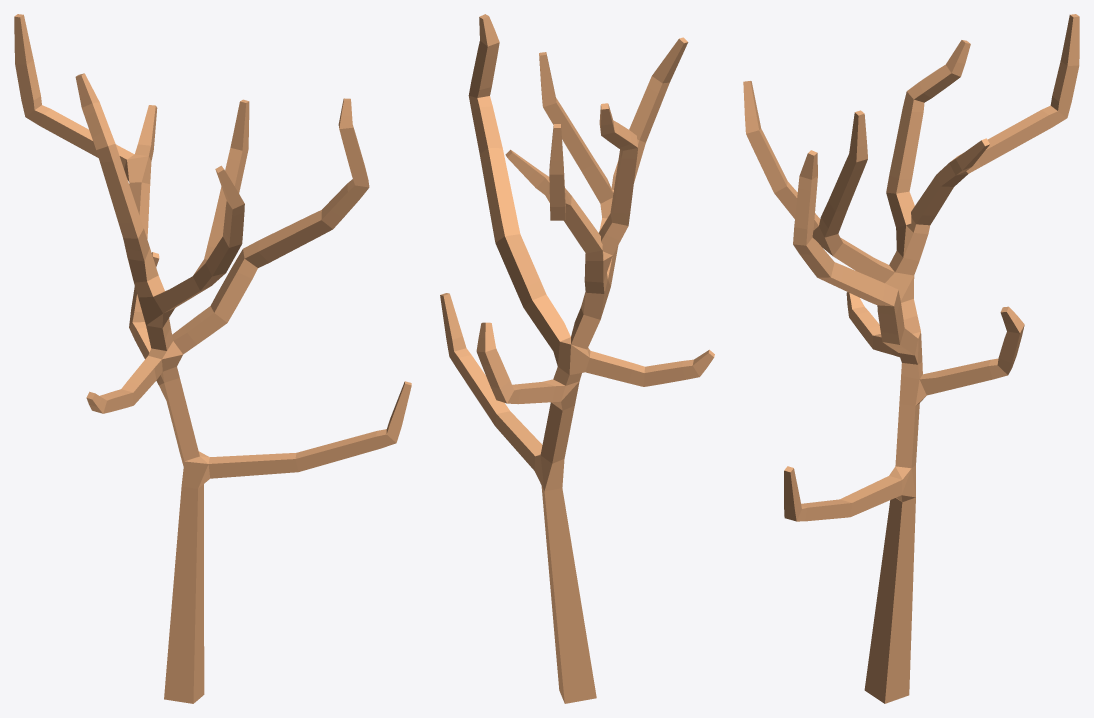
The model's file is tree_1.glb.
3 views of the same model, side by side, from view 1: azimuth 30°, elevation 25°; view 2: azimuth 150°, elevation 25°; view 3: azimuth 270°, elevation 25° (orthographic). The views are drawn at different scales.
Parts seen in each view (by area): view 1: twig_tree_1.001; view 2: twig_tree_1.001; view 3: twig_tree_1.001.
Part boxes in pixels (x1,y1,x2,y2): twig_tree_1.001: (14, 14, 411, 703); twig_tree_1.001: (440, 14, 714, 703); twig_tree_1.001: (743, 14, 1079, 703).
Size of the model in its own units: 0.7381 by 1.52 by 0.7191.
1 material, 1 textured.
